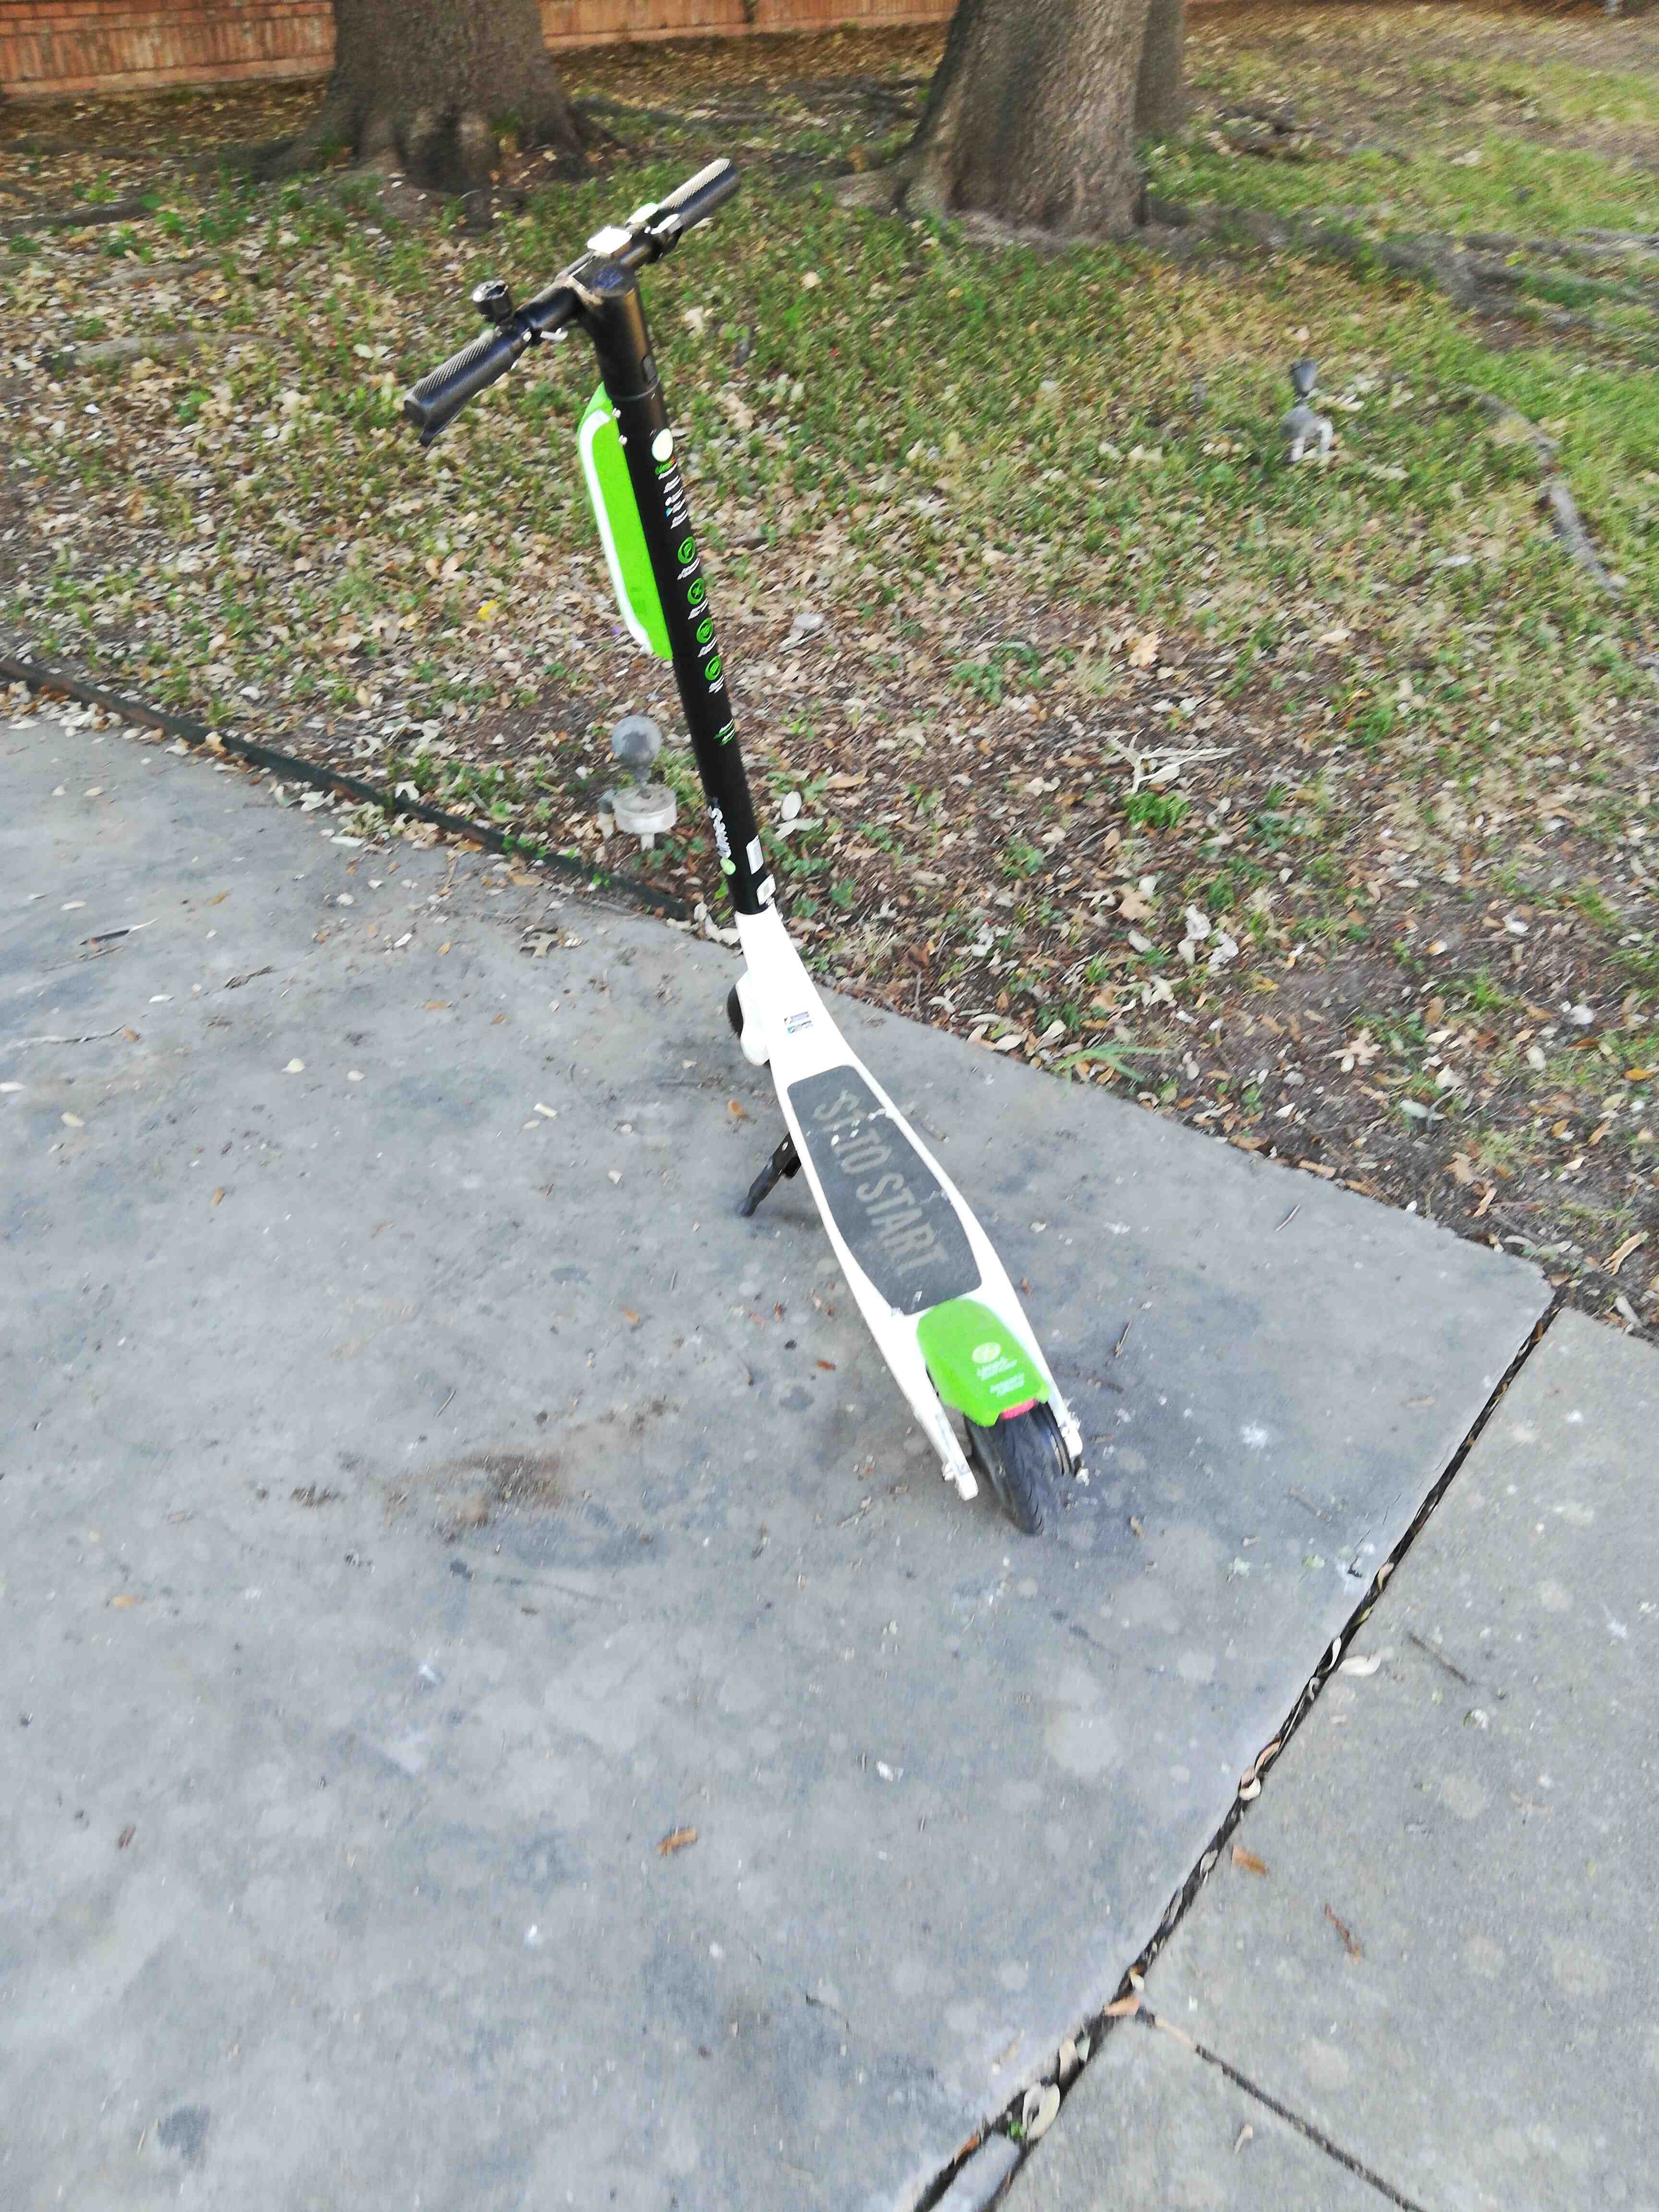scooter: (342, 84, 1201, 1562)
